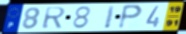4: (145, 5, 161, 28)
8: (72, 6, 93, 30), (22, 7, 42, 30)
I: (103, 5, 117, 30)
P: (116, 4, 144, 30)
R: (41, 6, 67, 30)
